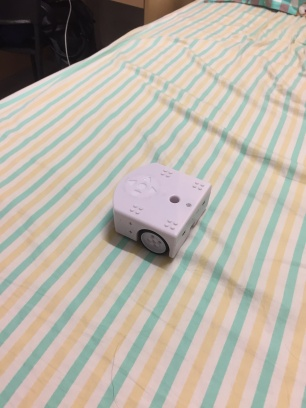thymio: (107, 158, 218, 259)
